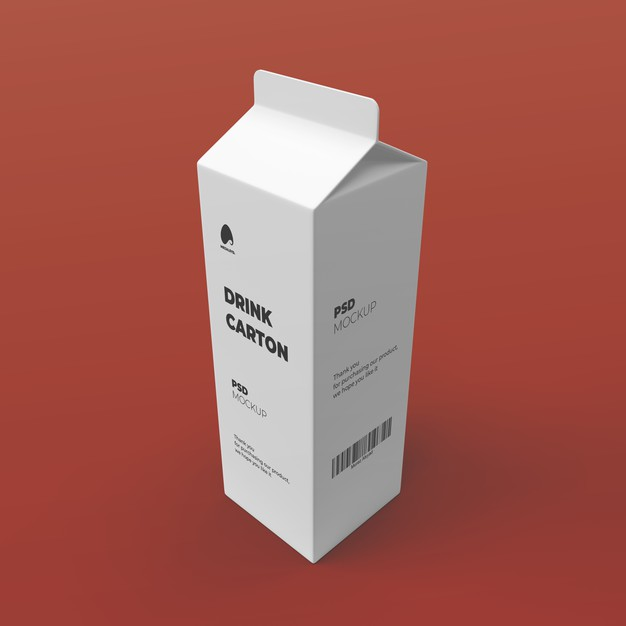carton: (169, 45, 460, 603)
